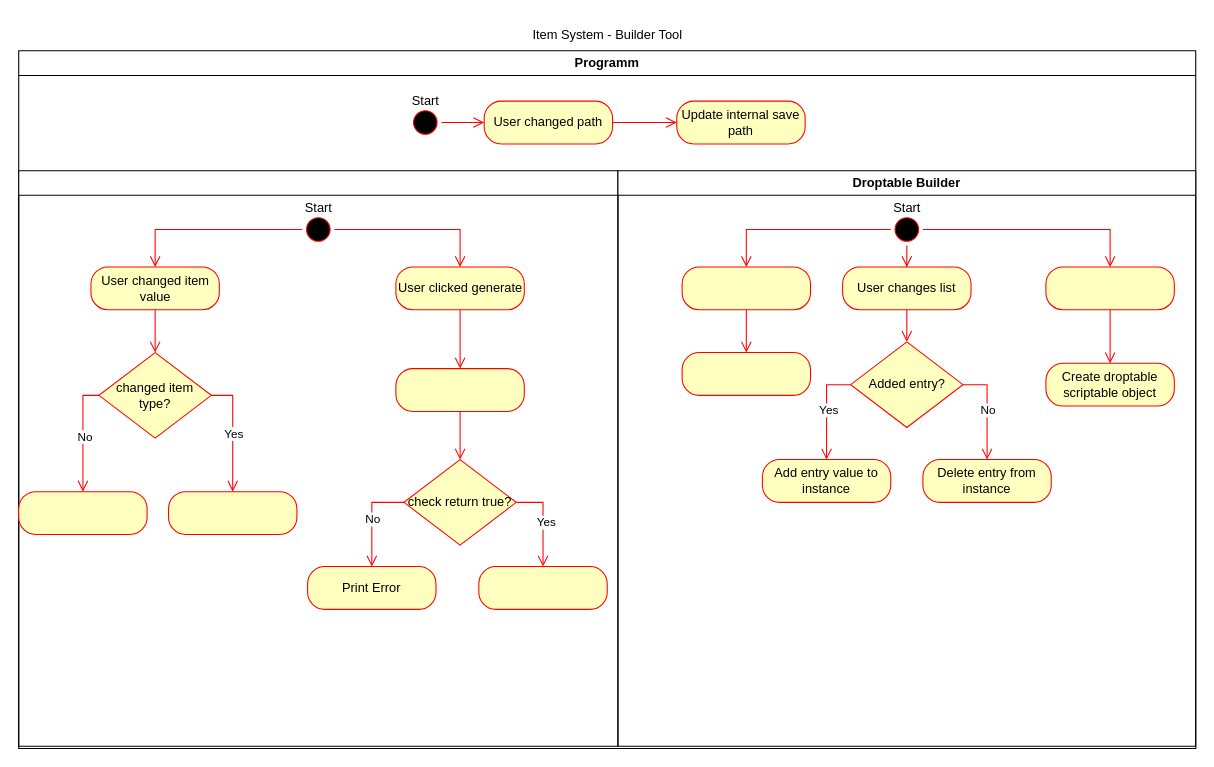
Some shapes in this 1214 by 767 pixel diagram are drawn without their labels. Each missing label, with the box of its shape:
Check if every mandatory field is filled and valid: (395, 368, 524, 411)
Generate Item Prefab: (478, 565, 607, 609)
Unique Item Builder: (18, 170, 618, 746)
Update entry value: (681, 351, 811, 395)
Update instance value: (18, 491, 147, 534)
Update type specific display: (167, 491, 297, 534)
User changed entry value: (681, 266, 811, 310)
User clicked create: (1045, 266, 1174, 310)
